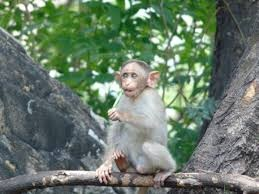monkey: (92, 55, 178, 185)
